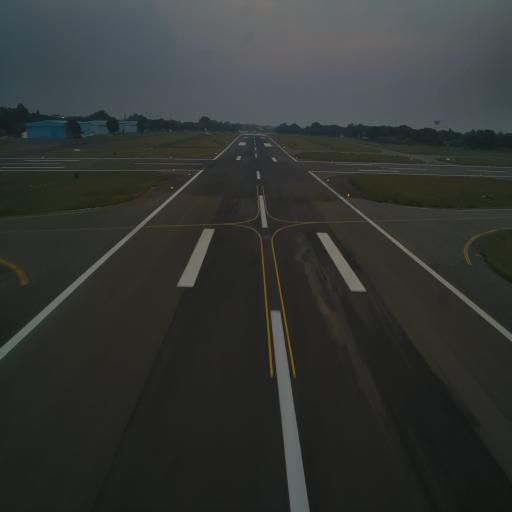on: (169, 184, 174, 192), (346, 192, 350, 200)
